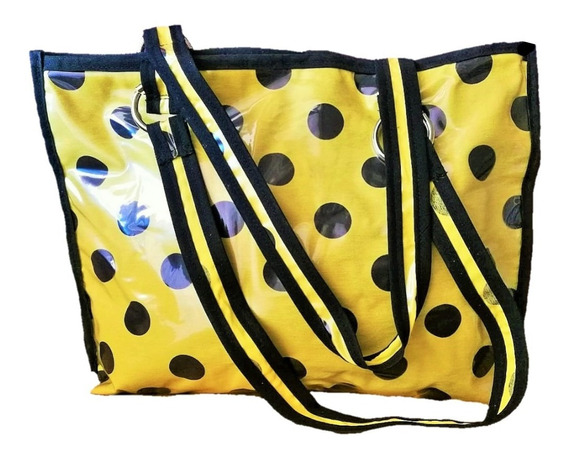cartera: (27, 23, 543, 404)
